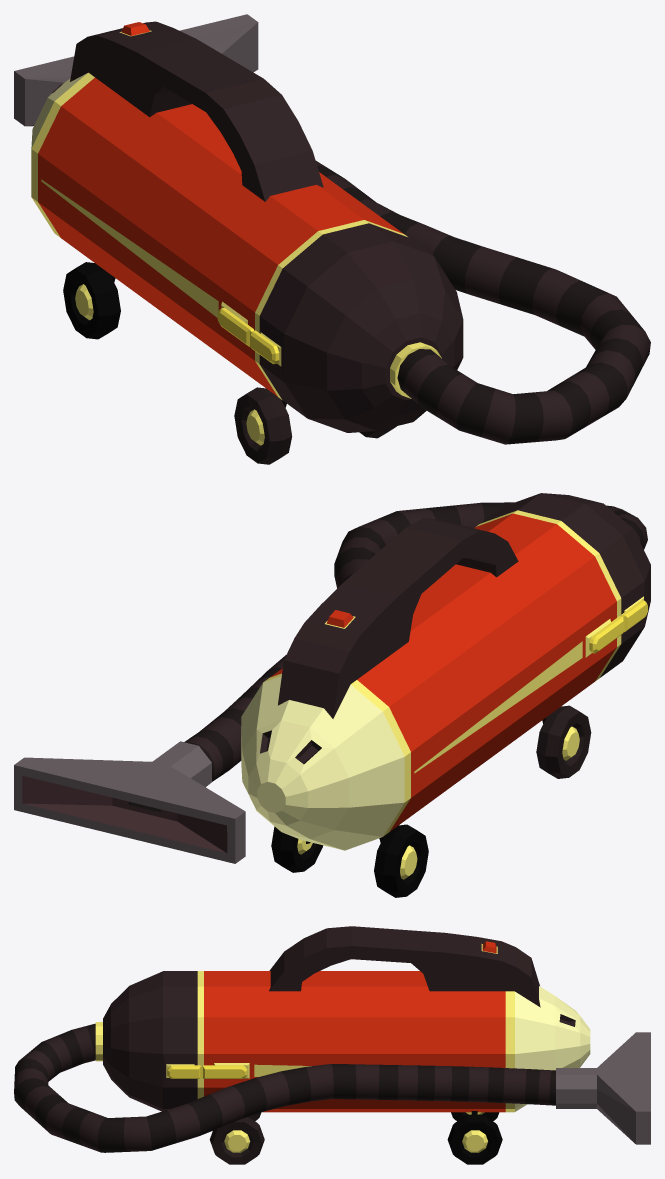
The model's file is Vacuum_cleaner.fbx.
3 renders of one model, top to bottom at view 1: azimuth 30°, elevation 25°; view 2: azimuth 150°, elevation 25°; view 3: azimuth 270°, elevation 25°, orthographic. The views are drawn at different scales.
Parts seen in each view (by area): view 1: Vacuum_cleaner; view 2: Vacuum_cleaner; view 3: Vacuum_cleaner.
Boxes of the visible parts, box(x1,y1,x2,y2) form: Vacuum_cleaner: box(14, 14, 650, 464); Vacuum_cleaner: box(14, 493, 650, 897); Vacuum_cleaner: box(14, 926, 650, 1164).
Size of the model in its own units: 1.65 by 1.41 by 3.91.
